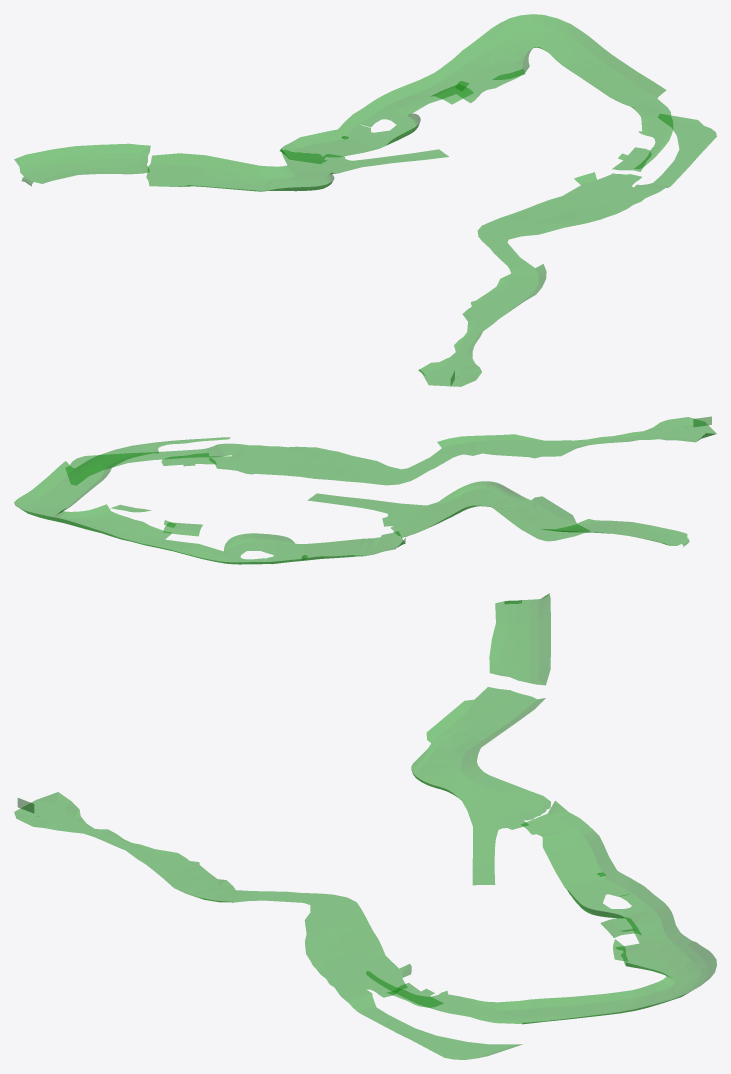
The model's file is road_sand.obj.
3 renders of one model, top to bottom at view 1: azimuth 30°, elevation 25°; view 2: azimuth 150°, elevation 25°; view 3: azimuth 270°, elevation 25°, orthographic. The views are drawn at different scales.
Bounding box in the file's own units: 942 × 141 × 784.
